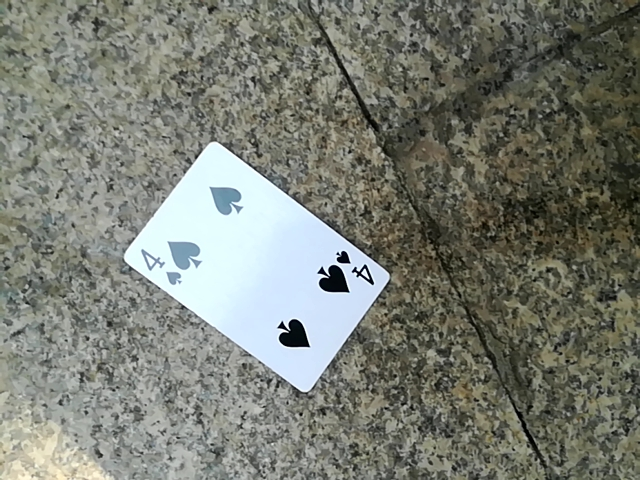ht 4: (110, 140, 373, 409)
